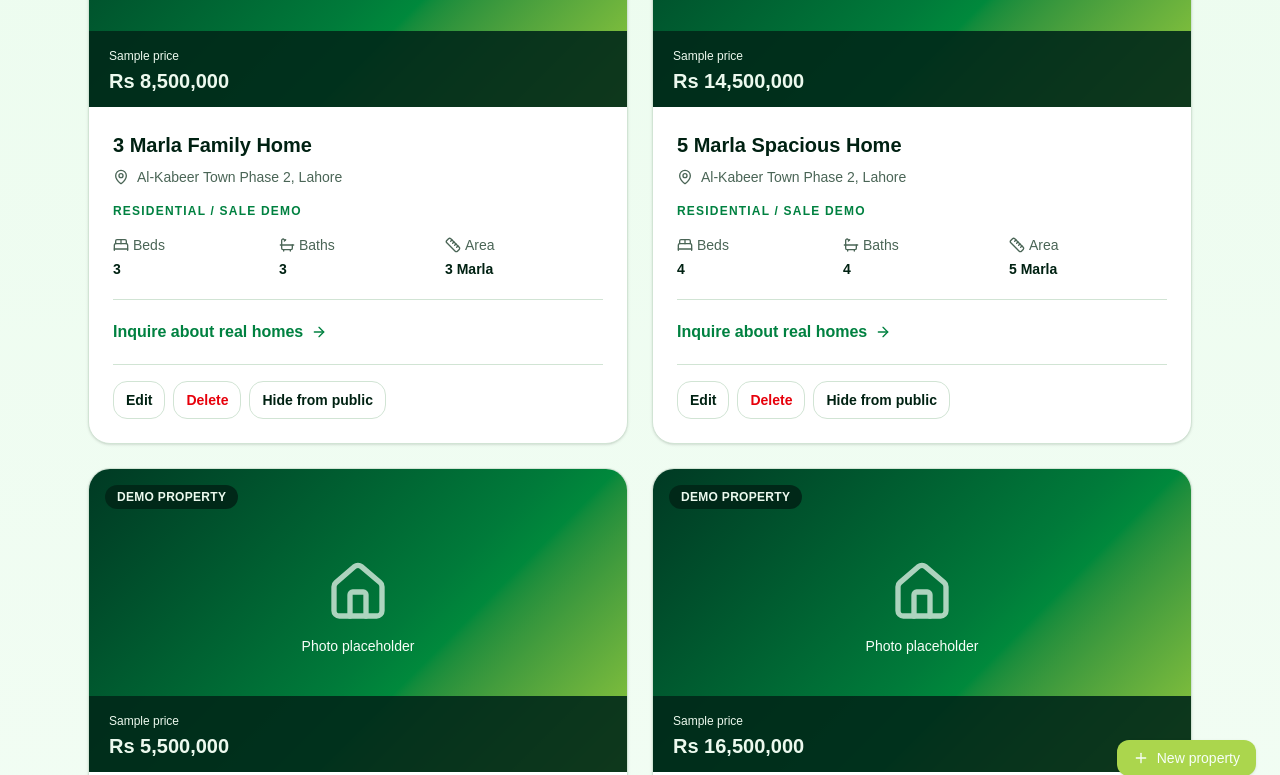
it: Sale listings › updates the admin indicator and sale controls immediately on session changes
(page scrolled)
expect the button "Admin logged in" is not shown: met
Click the button with aria-label "Hide 3 Marla Family Home from public": (318, 400) [250, 381, 386, 419]
(page scrolled)
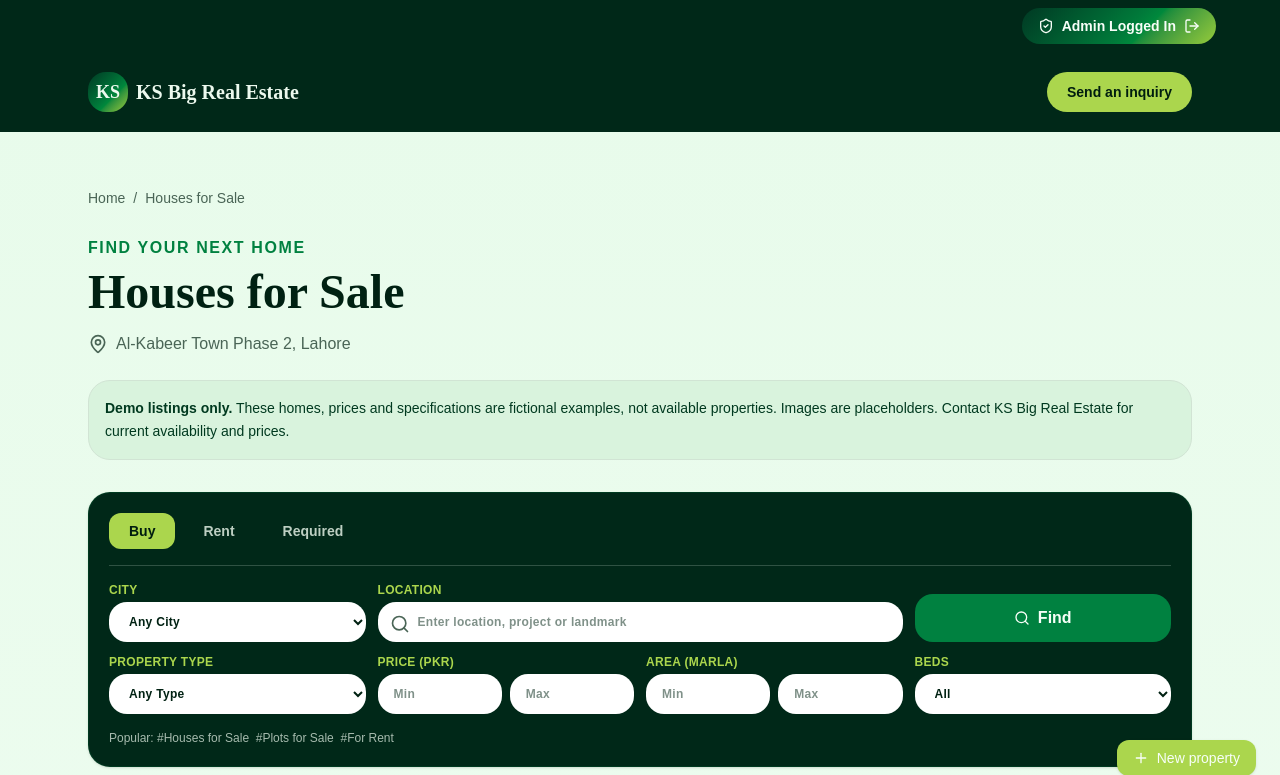
Click the button "Admin Logged In": (1119, 26) [1022, 8, 1216, 44]
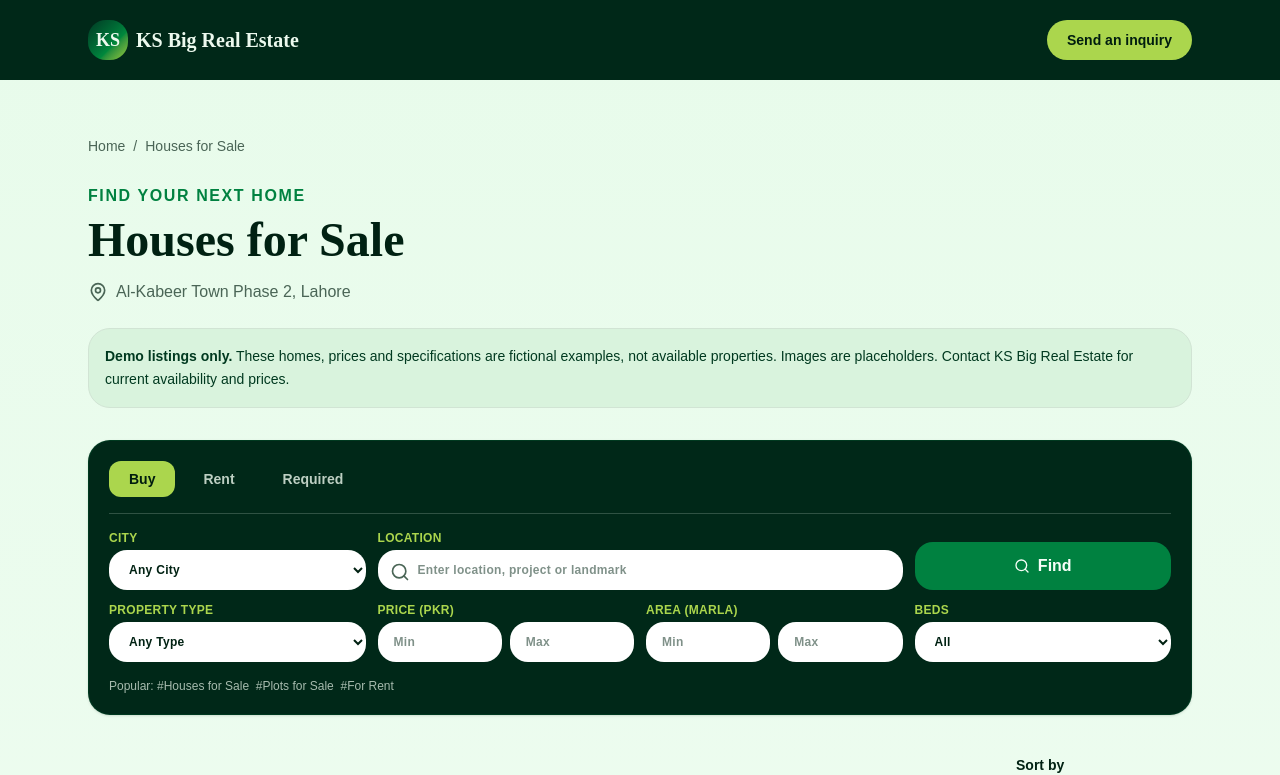
expect the button "Edit" is not shown: met
expect the button "Admin Logged In" is gone: met
expect the button "New property" is gone: met
